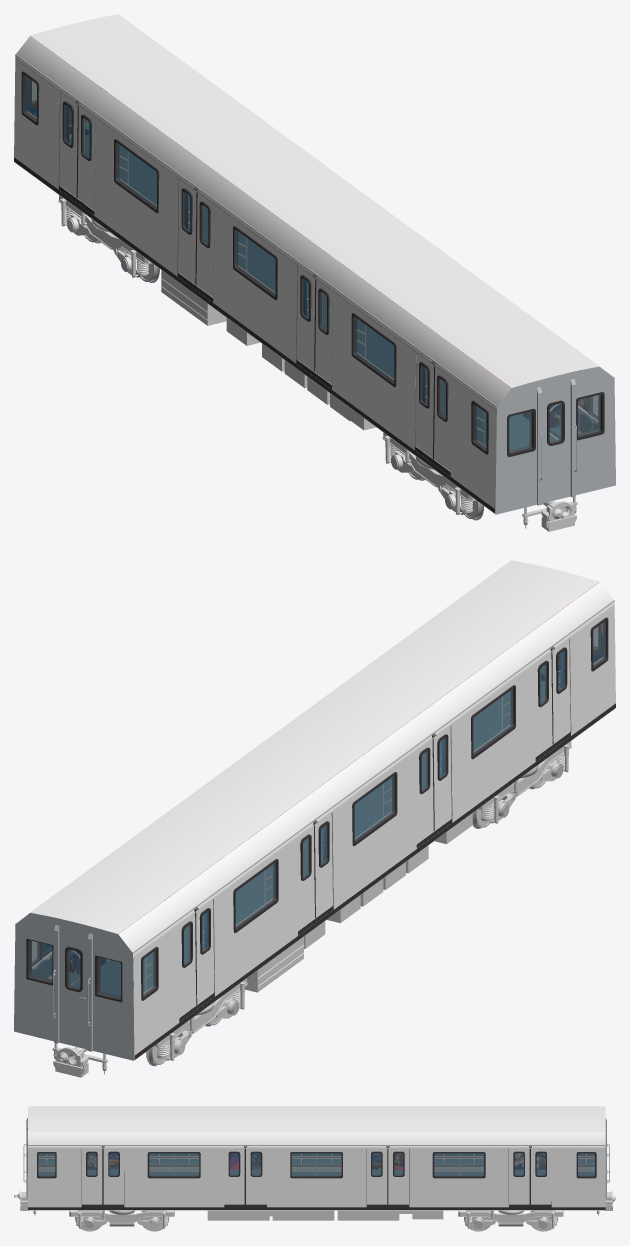
File: car-5.glb
The picture shows the model from 3 angles, top to bottom: view 1: azimuth 30°, elevation 25°; view 2: azimuth 150°, elevation 25°; view 3: azimuth 270°, elevation 25°; orthographic projection. The views are drawn at different scales.
Visible parts, largest first — view 1: Mesh492.031, Mesh589.003, Mesh253.006, Mesh560.003, Mesh524.007, Cube.256, Cube.257, Cube.255, Mesh11.003, Mesh511.003, Mesh31.003, Cube.294 (+8 smaller); view 2: Mesh492.031, Mesh589.003, Mesh584.003, Mesh253.007, Mesh510.007, Cube.255, Cube.256, Cube.257, Mesh11.003, Mesh511.003, Mesh27.003, Cube.305 (+8 smaller); view 3: Mesh492.031, Mesh492.032, Cube.224, Cube.250, Cube.223, Mesh589.003, Mesh5.003, Mesh4.003, Mesh9.003, Mesh256.003, Mesh278.003, Mesh283.003 (+24 smaller).
Boxes of the visible parts, x1=… form: Mesh492.031: x1=14, y1=14, x2=599, y2=514; Mesh589.003: x1=69, y1=134, x2=556, y2=450; Mesh253.006: x1=495, y1=376, x2=555, y2=514; Mesh560.003: x1=555, y1=366, x2=615, y2=499; Mesh524.007: x1=542, y1=395, x2=570, y2=493; Cube.256: x1=235, y1=230, x2=275, y2=295; Cube.257: x1=116, y1=143, x2=156, y2=208; Cube.255: x1=354, y1=317, x2=394, y2=382; Mesh11.003: x1=161, y1=270, x2=226, y2=325; Mesh511.003: x1=15, y1=54, x2=497, y2=407; Mesh31.003: x1=541, y1=500, x2=576, y2=531; Cube.294: x1=578, y1=394, x2=600, y2=436; Mesh492.031: x1=30, y1=560, x2=615, y2=1060; Mesh589.003: x1=73, y1=681, x2=571, y2=995; Mesh584.003: x1=74, y1=922, x2=134, y2=1060; Mesh253.007: x1=14, y1=913, x2=73, y2=1045; Mesh510.007: x1=59, y1=941, x2=87, y2=1039; Cube.255: x1=473, y1=689, x2=513, y2=754; Cube.256: x1=354, y1=775, x2=394, y2=841; Cube.257: x1=235, y1=862, x2=275, y2=928; Mesh11.003: x1=245, y1=937, x2=303, y2=992; Mesh511.003: x1=132, y1=600, x2=614, y2=953; Mesh27.003: x1=53, y1=1047, x2=88, y2=1077; Cube.305: x1=29, y1=940, x2=52, y2=981; Mesh492.031: x1=28, y1=1106, x2=605, y2=1210; Mesh492.032: x1=87, y1=1153, x2=545, y2=1169; Cube.224: x1=291, y1=1153, x2=341, y2=1175; Cube.250: x1=149, y1=1153, x2=199, y2=1175; Cube.223: x1=434, y1=1153, x2=483, y2=1175; Mesh589.003: x1=38, y1=1170, x2=594, y2=1175; Mesh5.003: x1=207, y1=1210, x2=269, y2=1220; Mesh4.003: x1=337, y1=1210, x2=399, y2=1220; Mesh9.003: x1=272, y1=1210, x2=334, y2=1220; Mesh256.003: x1=511, y1=1210, x2=563, y2=1229; Mesh278.003: x1=122, y1=1210, x2=174, y2=1229; Mesh283.003: x1=69, y1=1210, x2=121, y2=1229.
Bounding box in the file's own units: 2.67 × 3.63 × 19.13.
Materials: 58 (1 with a texture image).
